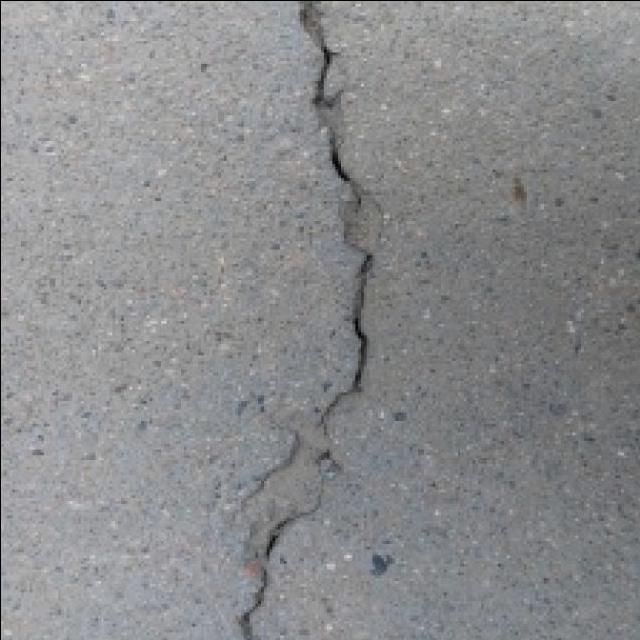SurfaceCrack: (206, 0, 410, 634)
